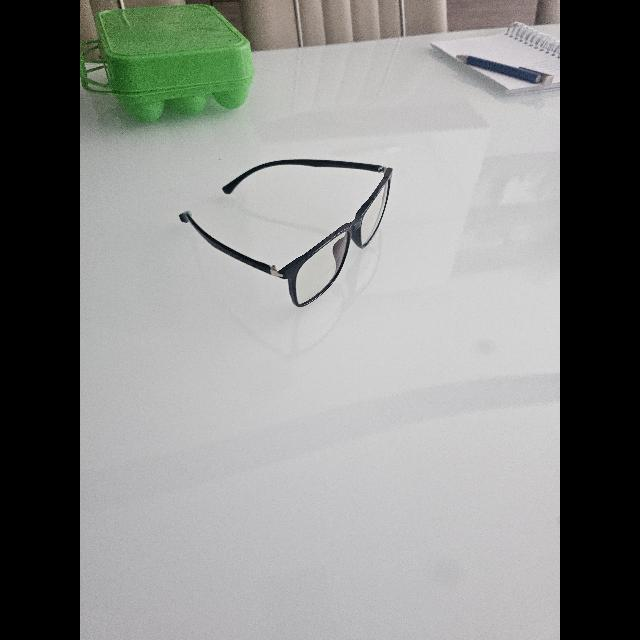glasses: (180, 160, 392, 306)
